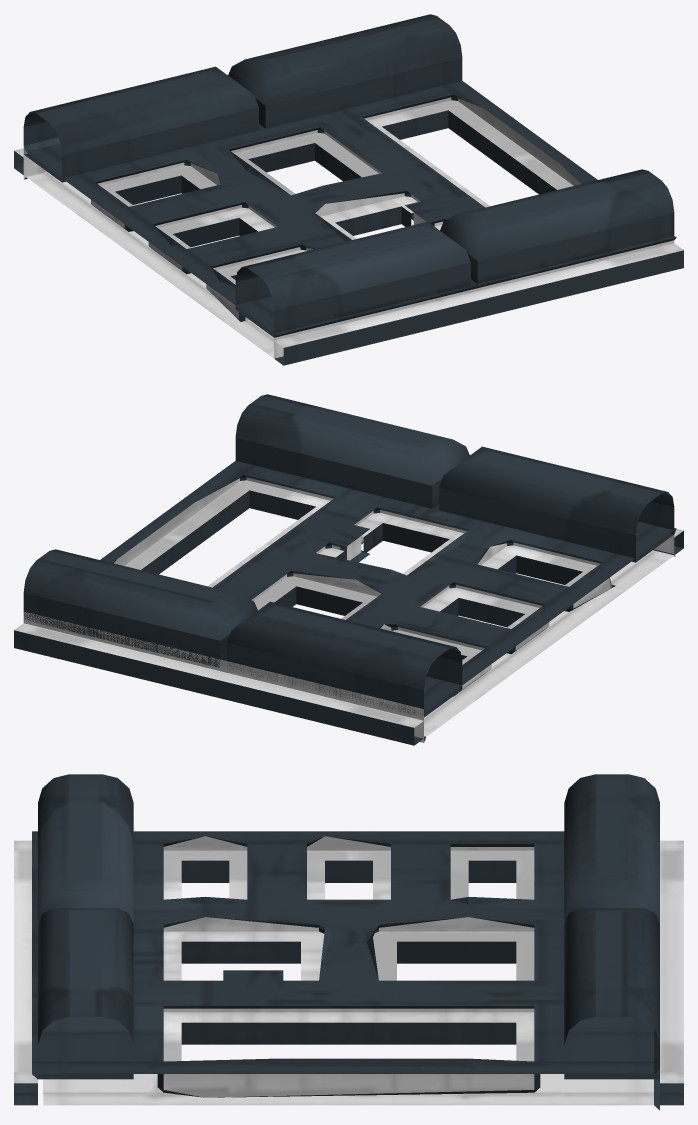
File: delbld-girder-587.glb
The picture shows the model from 3 angles, top to bottom: view 1: azimuth 30°, elevation 25°; view 2: azimuth 150°, elevation 25°; view 3: azimuth 270°, elevation 25°; orthographic projection. The views are drawn at different scales.
Parts seen in each view (by area): view 1: delbld-girder-587; view 2: delbld-girder-587; view 3: delbld-girder-587.
Part boxes in pixels (left/top/right/bottom): delbld-girder-587: left=14, top=14, right=683, bottom=365; delbld-girder-587: left=14, top=394, right=683, bottom=745; delbld-girder-587: left=14, top=774, right=683, bottom=1110.
Bounding box in the file's own units: 2 × 0.3608 × 2.33.
3 materials, 3 textured.
